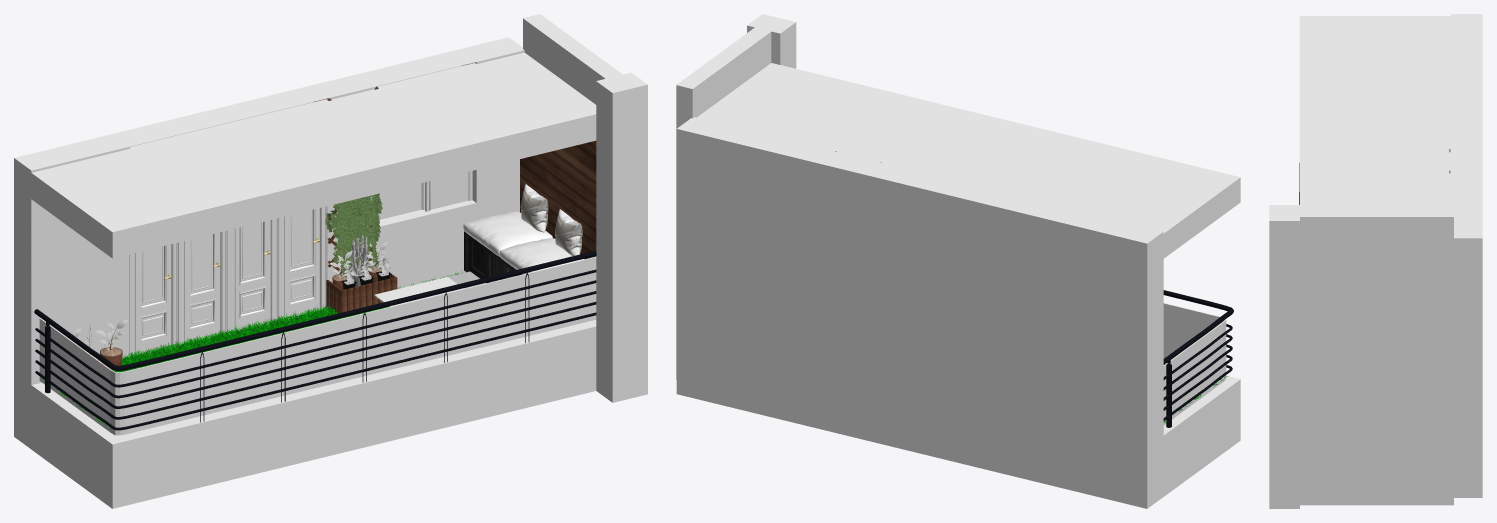
File: balcony.fbx
3 renders of one model, left to right at view 1: azimuth 30°, elevation 25°; view 2: azimuth 150°, elevation 25°; view 3: azimuth 270°, elevation 25°, orthographic. The views are drawn at different scales.
Visible parts, largest first — view 1: polySurface55, pPlane1, pPlane4, pCube1, polySurface54, pCube2, polySurface51, polySurface30, polySurface53, polySurface52, pCylinder12, polySurface10 (+16 smaller); view 2: pPlane4, polySurface55, polySurface54, pPlane1, pCube1, pCylinder12; view 3: polySurface54, polySurface55, pPlane4.
Boxes of the visible parts, x1,y1,x2,y2 form: polySurface55: (29, 52, 596, 258); pPlane1: (29, 320, 596, 508); pPlane4: (14, 37, 524, 447); pCube1: (39, 256, 596, 435); polySurface54: (523, 14, 647, 402); pCube2: (520, 140, 596, 259); polySurface51: (178, 230, 228, 344); polySurface30: (129, 242, 179, 355); polySurface53: (278, 206, 328, 319); polySurface52: (229, 218, 278, 334); pCylinder12: (34, 250, 596, 370); polySurface10: (378, 170, 472, 219); pPlane4: (676, 117, 1163, 508); polySurface55: (697, 63, 1240, 259); polySurface54: (676, 14, 796, 379); pPlane1: (1162, 375, 1240, 497); pCube1: (1163, 303, 1226, 425); pCylinder12: (1163, 290, 1233, 364); polySurface54: (1269, 205, 1453, 508); polySurface55: (1299, 16, 1450, 209); pPlane4: (1450, 14, 1482, 497).
Bounding box in the file's own units: 448 × 256 × 172.
